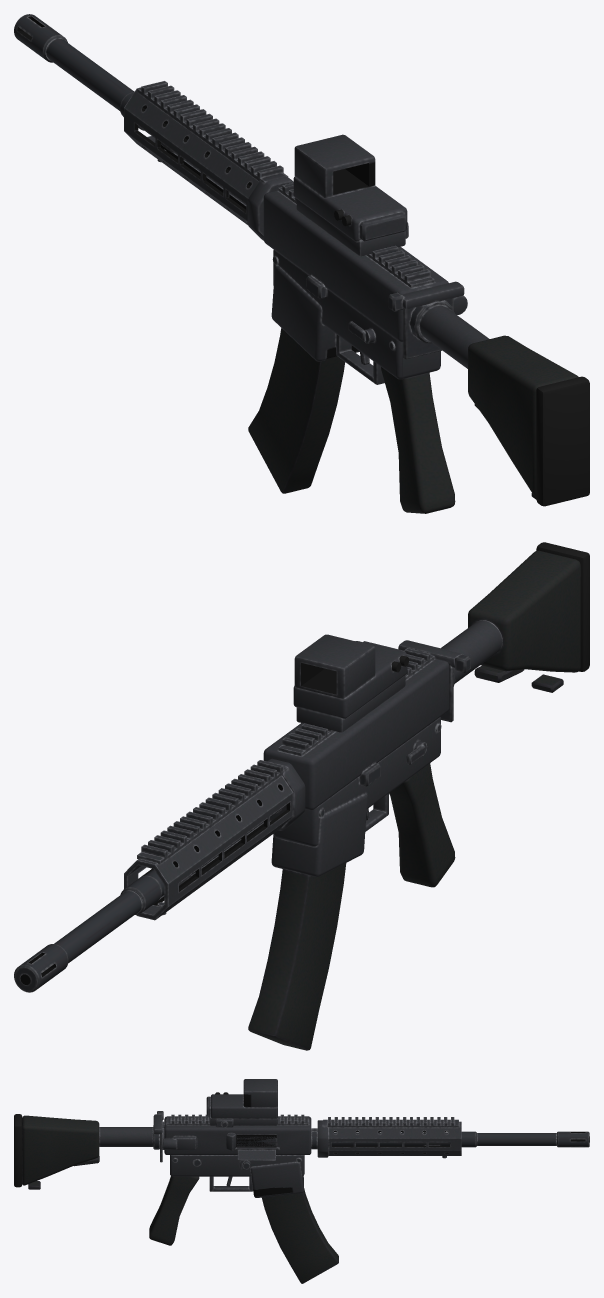
The model's file is rifle.glb.
3 views of the same model, one above another, from view 1: azimuth 30°, elevation 25°; view 2: azimuth 150°, elevation 25°; view 3: azimuth 270°, elevation 25° (orthographic). The views are drawn at different scales.
Parts seen in each view (by area): view 1: Rifle; view 2: Rifle; view 3: Rifle.
Part boxes in pixels (x1,y1,x2,y2): Rifle: (14, 14, 589, 513); Rifle: (14, 542, 589, 1050); Rifle: (14, 1079, 589, 1283).
Size of the model in its own units: 0.08 by 0.316 by 0.8425.
Materials: 1 (1 with a texture image).
